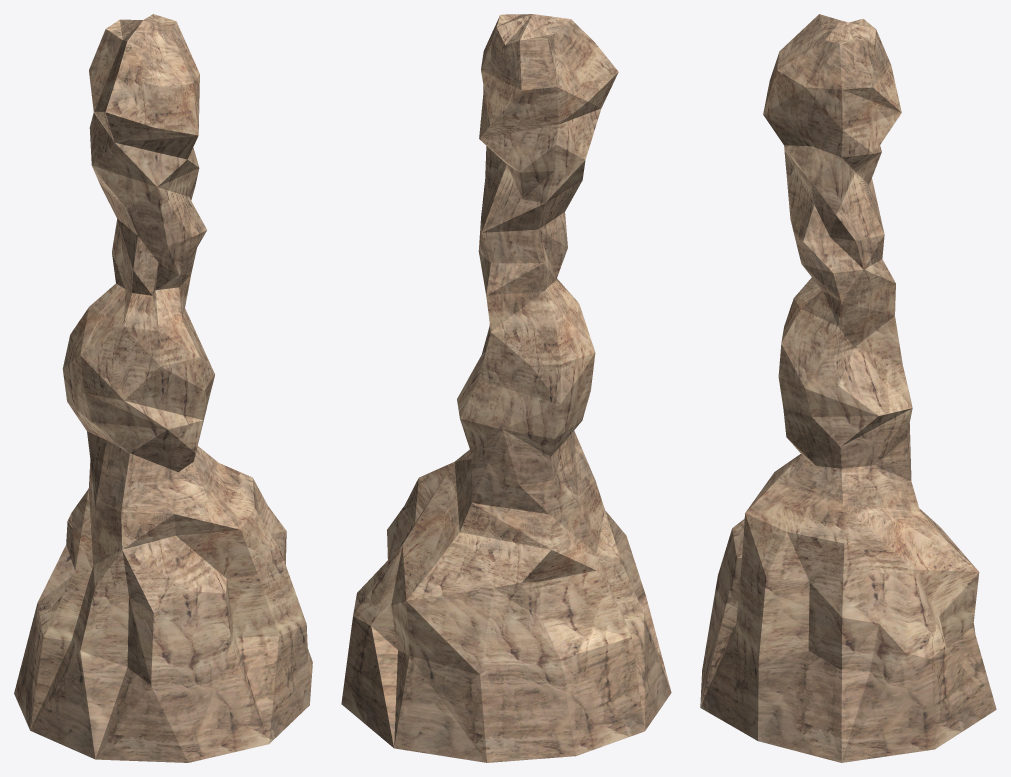
The model's file is rock_tatt_spire_lumpy_l0.fbx.
3 renders of one model, left to right at view 1: azimuth 30°, elevation 25°; view 2: azimuth 150°, elevation 25°; view 3: azimuth 270°, elevation 25°, orthographic. The views are drawn at different scales.
Parts seen in each view (by area): view 1: mesh_node; view 2: mesh_node; view 3: mesh_node.
Boxes of the visible parts, x1,y1,x2,y2 form: mesh_node: [14, 14, 312, 762]; mesh_node: [341, 14, 671, 762]; mesh_node: [700, 14, 996, 762].
Size of the model in its own units: 33.58 by 77.79 by 31.55.
